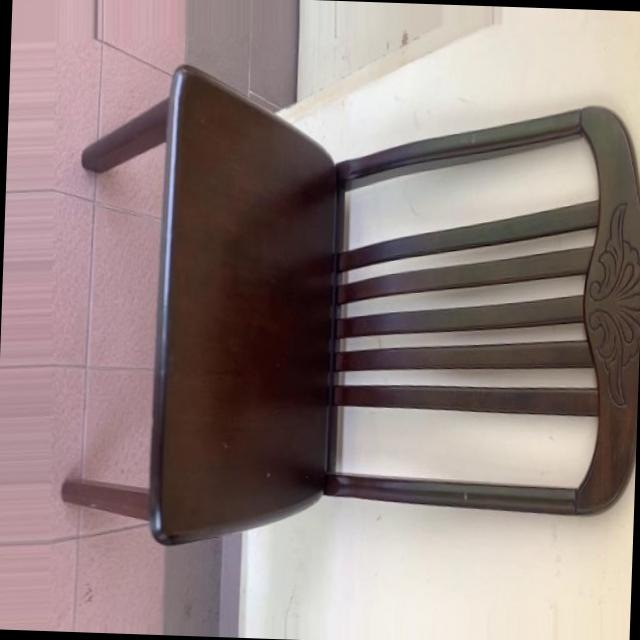Chair: (58, 54, 640, 570)
